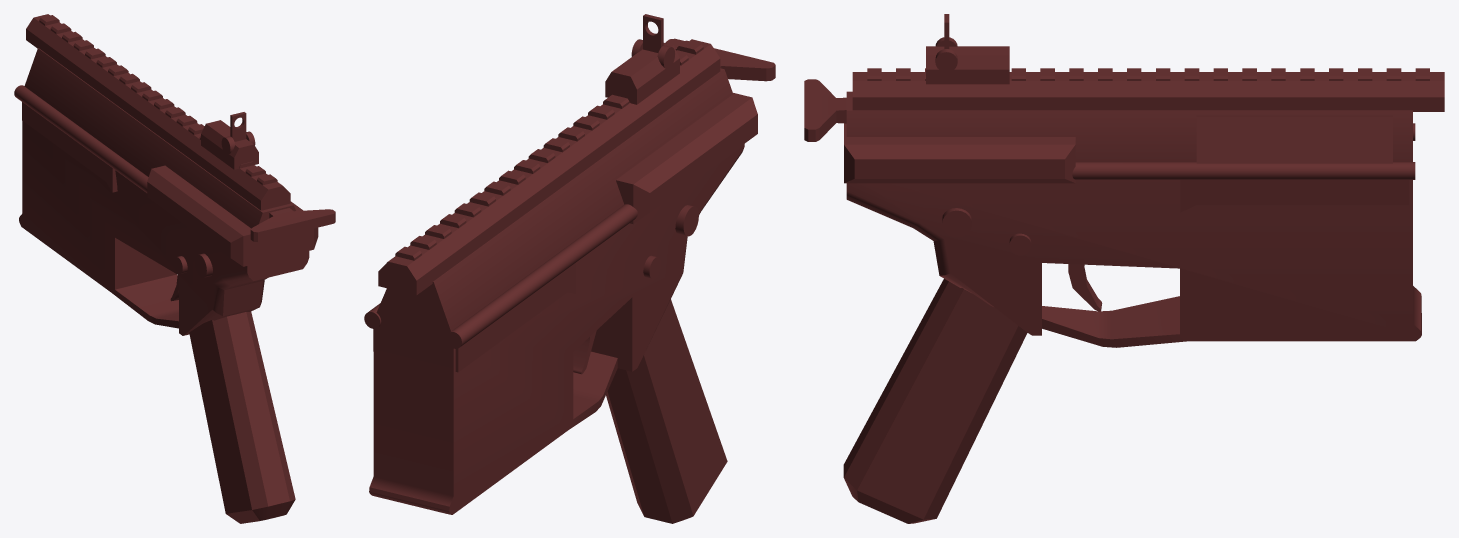
File: Reciever_3.fbx
The picture shows the model from 3 angles, left to right: view 1: azimuth 30°, elevation 25°; view 2: azimuth 150°, elevation 25°; view 3: azimuth 270°, elevation 25°; orthographic projection. The views are drawn at different scales.
Parts seen in each view (by area): view 1: Receiver_3; view 2: Receiver_3; view 3: Receiver_3.
Part boxes in pixels (<box>): Receiver_3: <box>14,14,335,523</box>; Receiver_3: <box>364,14,775,523</box>; Receiver_3: <box>804,14,1444,523</box>.
Size of the model in its own units: 0.2595 by 1.12 by 1.3.
